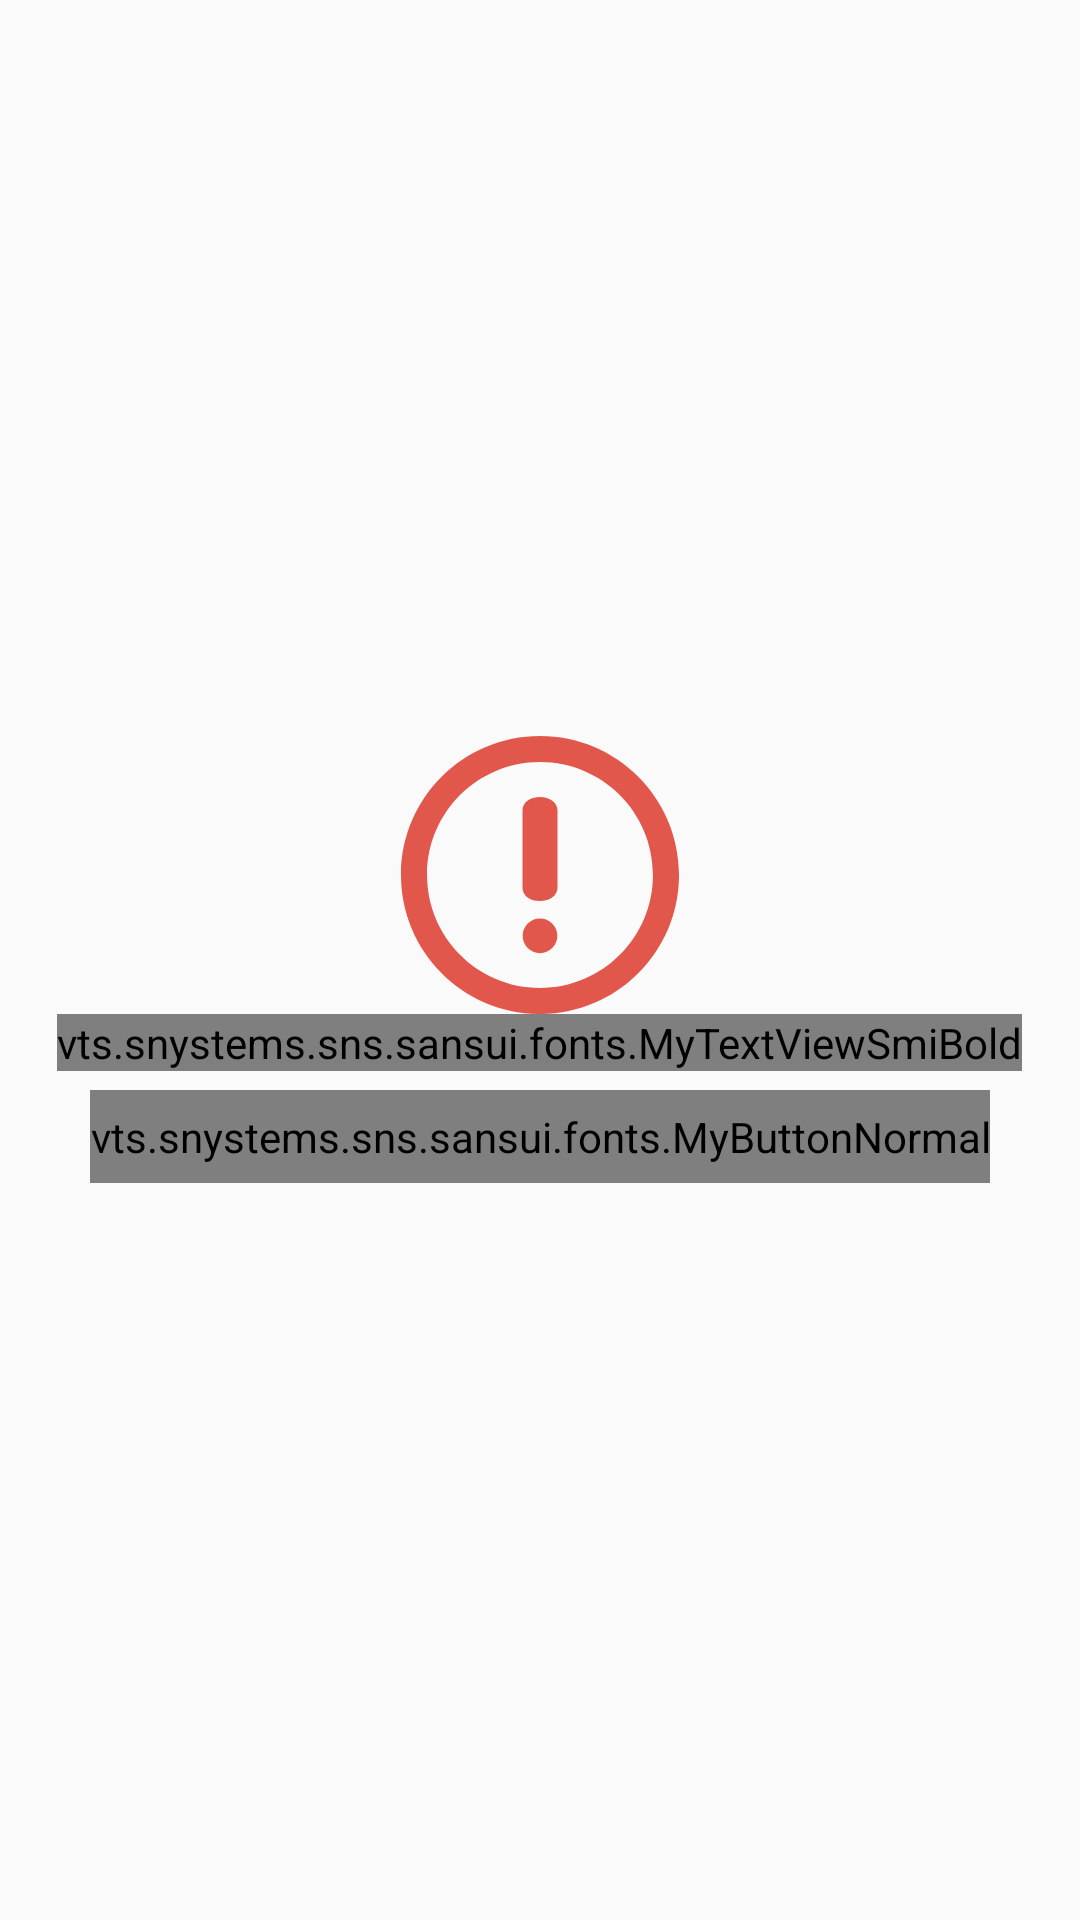

Icons on this 1080 × 1920 Android screen, each with its box as (x1, y1, x2, y2):
no data waring: (401, 736, 679, 1014)
